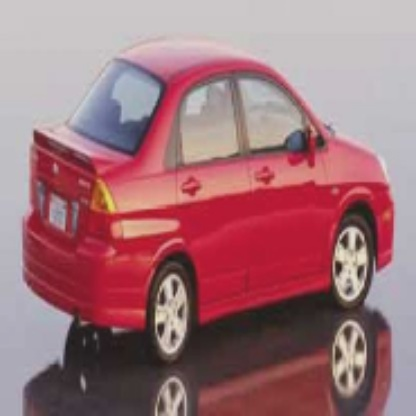Vehicle: (23, 42, 399, 370)
